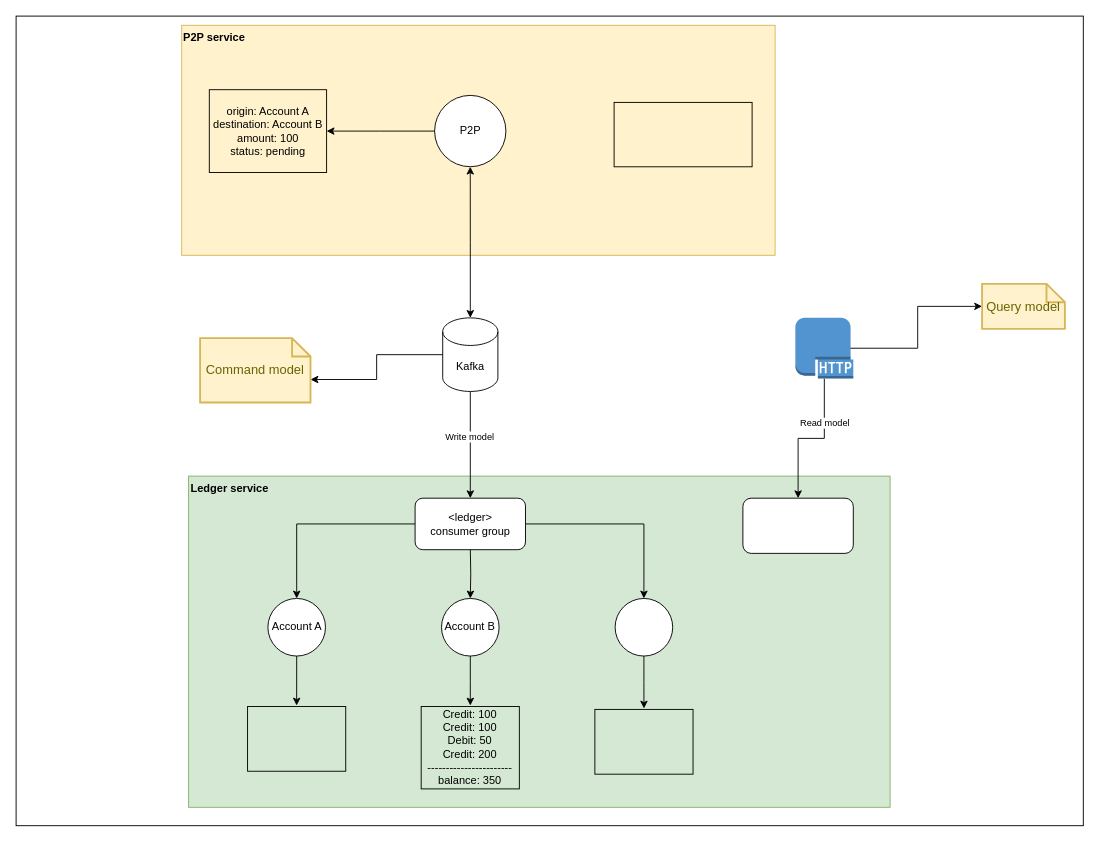
This 1099x842 diagram has some shape labels left out. Here are the shapes that lost their labels. From the top down, the centre of each, then its label:
the point at 682,134: - Rules: - minimum of 10 - accounts must be different
the point at 823,348: Rest API
the point at 797,525: Get Balance Get Transactions
the point at 643,627: Account C
the point at 296,738: Credit: 100 Debit: 50 ----------------------- balance: 50
the point at 643,741: Credit: 100 Credit: 100 Credit: 200 ----------------------- balance: 400
